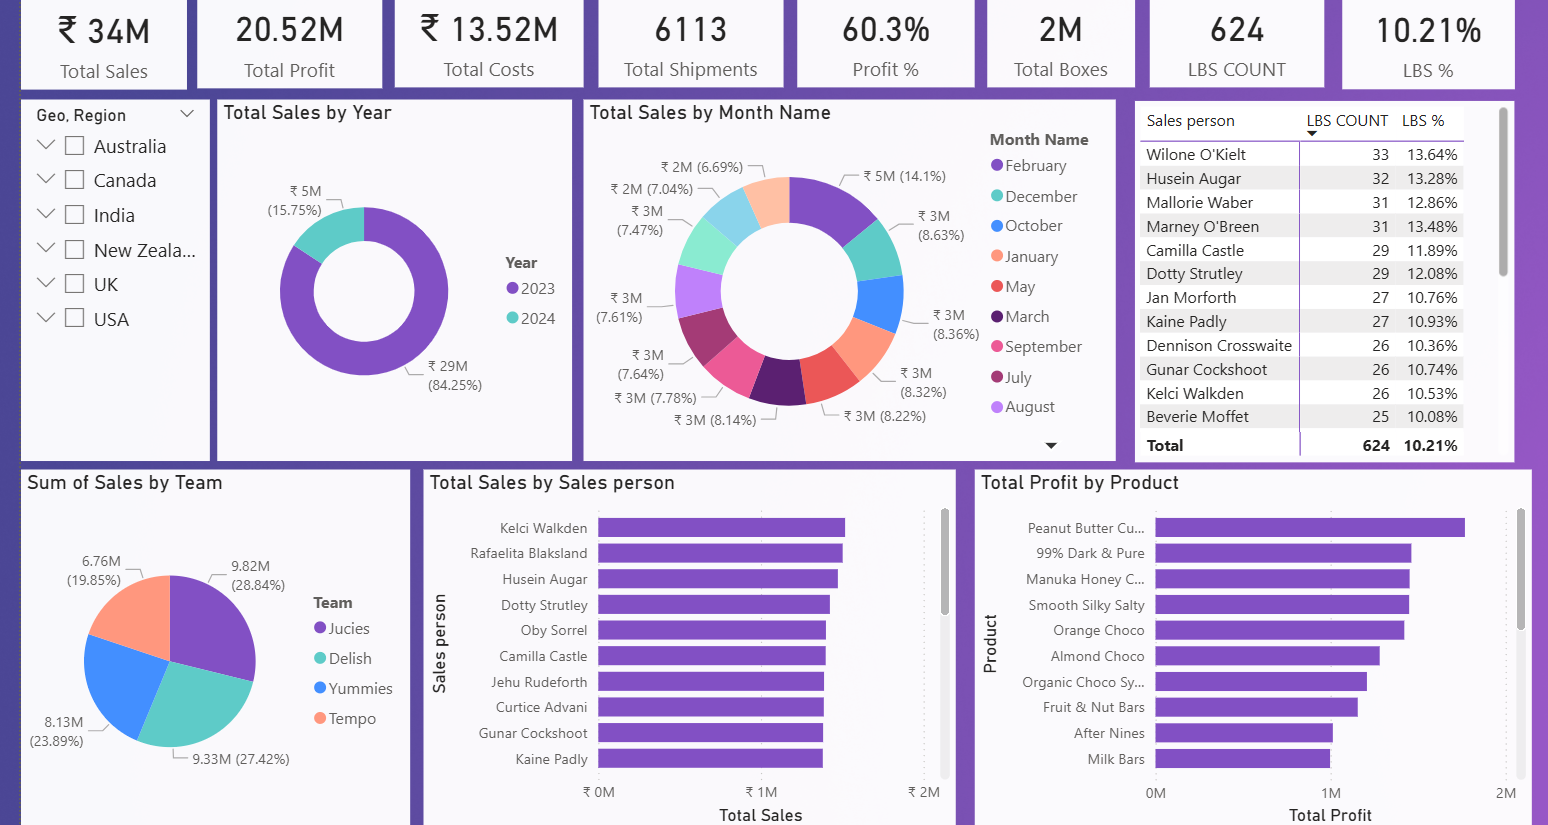

The page's visual inventory and layout, read from the dashboard file:
{"tool":"powerbi","page":{"name":"Page 1","canvas":[1280,720],"ordinal":0},"visuals":[{"type":"card","fields":{"Values":["_Measure.Total Sales"]},"box":[0,17.8,139.4,80.7],"z":0},{"type":"card","fields":{"Values":["_Measure.Total Profit"]},"box":[147.8,16.8,155.2,80.7],"z":1000},{"type":"card","fields":{"Values":["_Measure.Total Costs"]},"box":[313.5,16.8,158.3,79.7],"z":2000},{"type":"card","fields":{"Values":["_Measure.Profit %"]},"box":[651,16.8,148.9,79.7],"z":3000},{"type":"card","fields":{"Values":["_Measure.Total Boxes"]},"box":[810.4,16.8,123.7,79.7],"z":4000},{"type":"card","fields":{"Values":["_Measure.Total Shipments"]},"box":[484.3,16.8,155.2,79.7],"z":5000},{"type":"card","fields":{"Values":["_Measure.LBS COUNT"]},"box":[946.7,16.8,146.8,79.7],"z":6000},{"type":"card","fields":{"Values":["_Measure.LBS %"]},"box":[1108.1,16.8,144.7,81.8],"z":7000},{"type":"clusteredBarChart","fields":{"Category":["products.Product"],"Y":["_Measure.Total Profit"]},"box":[799.4,417.1,467.4,303.2],"z":8000},{"type":"clusteredBarChart","fields":{"Category":["people.Sales person"],"Y":["_Measure.Total Sales"]},"box":[337.6,417.2,446.6,303],"z":9000},{"type":"pieChart","fields":{"Category":["people.Team"],"Y":["Sum(shipments.Sales)"]},"box":[0,417.2,326,303],"z":10000},{"type":"slicer","fields":{"Values":["locations.Geo","locations.Region"]},"box":[0,106.9,158.3,303],"z":11000},{"type":"donutChart","fields":{"Category":["calendar.Year"],"Y":["_Measure.Total Sales"]},"box":[164.6,106.9,297.7,303],"z":12000},{"type":"pivotTable","fields":{"Rows":["people.Sales person"],"Values":["_Measure.LBS COUNT","_Measure.LBS %"]},"box":[934.1,108,318.7,303],"z":13000},{"type":"donutChart","fields":{"Category":["calendar.Month Name"],"Y":["_Measure.Total Sales"]},"box":[471.8,106.9,446.6,303],"z":14000}]}

Visuals, with their boxes on the page's 1280x720 design canvas (x1, y1, x2, y2). These are canvas units, not pixel positions in the 1548x825 screenshot, which may show the page scaled, cropped or inside an application window:
card - _Measure.Total Sales: BBox(0, 18, 139, 98)
card - _Measure.Total Profit: BBox(148, 17, 303, 98)
card - _Measure.Total Costs: BBox(314, 17, 472, 96)
card - _Measure.Profit %: BBox(651, 17, 800, 96)
card - _Measure.Total Boxes: BBox(810, 17, 934, 96)
card - _Measure.Total Shipments: BBox(484, 17, 640, 96)
card - _Measure.LBS COUNT: BBox(947, 17, 1094, 96)
card - _Measure.LBS %: BBox(1108, 17, 1253, 99)
clusteredBarChart - products.Product x _Measure.Total Profit: BBox(799, 417, 1267, 720)
clusteredBarChart - people.Sales person x _Measure.Total Sales: BBox(338, 417, 784, 720)
pieChart - people.Team x Sum(shipments.Sales): BBox(0, 417, 326, 720)
slicer - locations.Geo x locations.Region: BBox(0, 107, 158, 410)
donutChart - calendar.Year x _Measure.Total Sales: BBox(165, 107, 462, 410)
pivotTable - people.Sales person x _Measure.LBS COUNT: BBox(934, 108, 1253, 411)
donutChart - calendar.Month Name x _Measure.Total Sales: BBox(472, 107, 918, 410)
